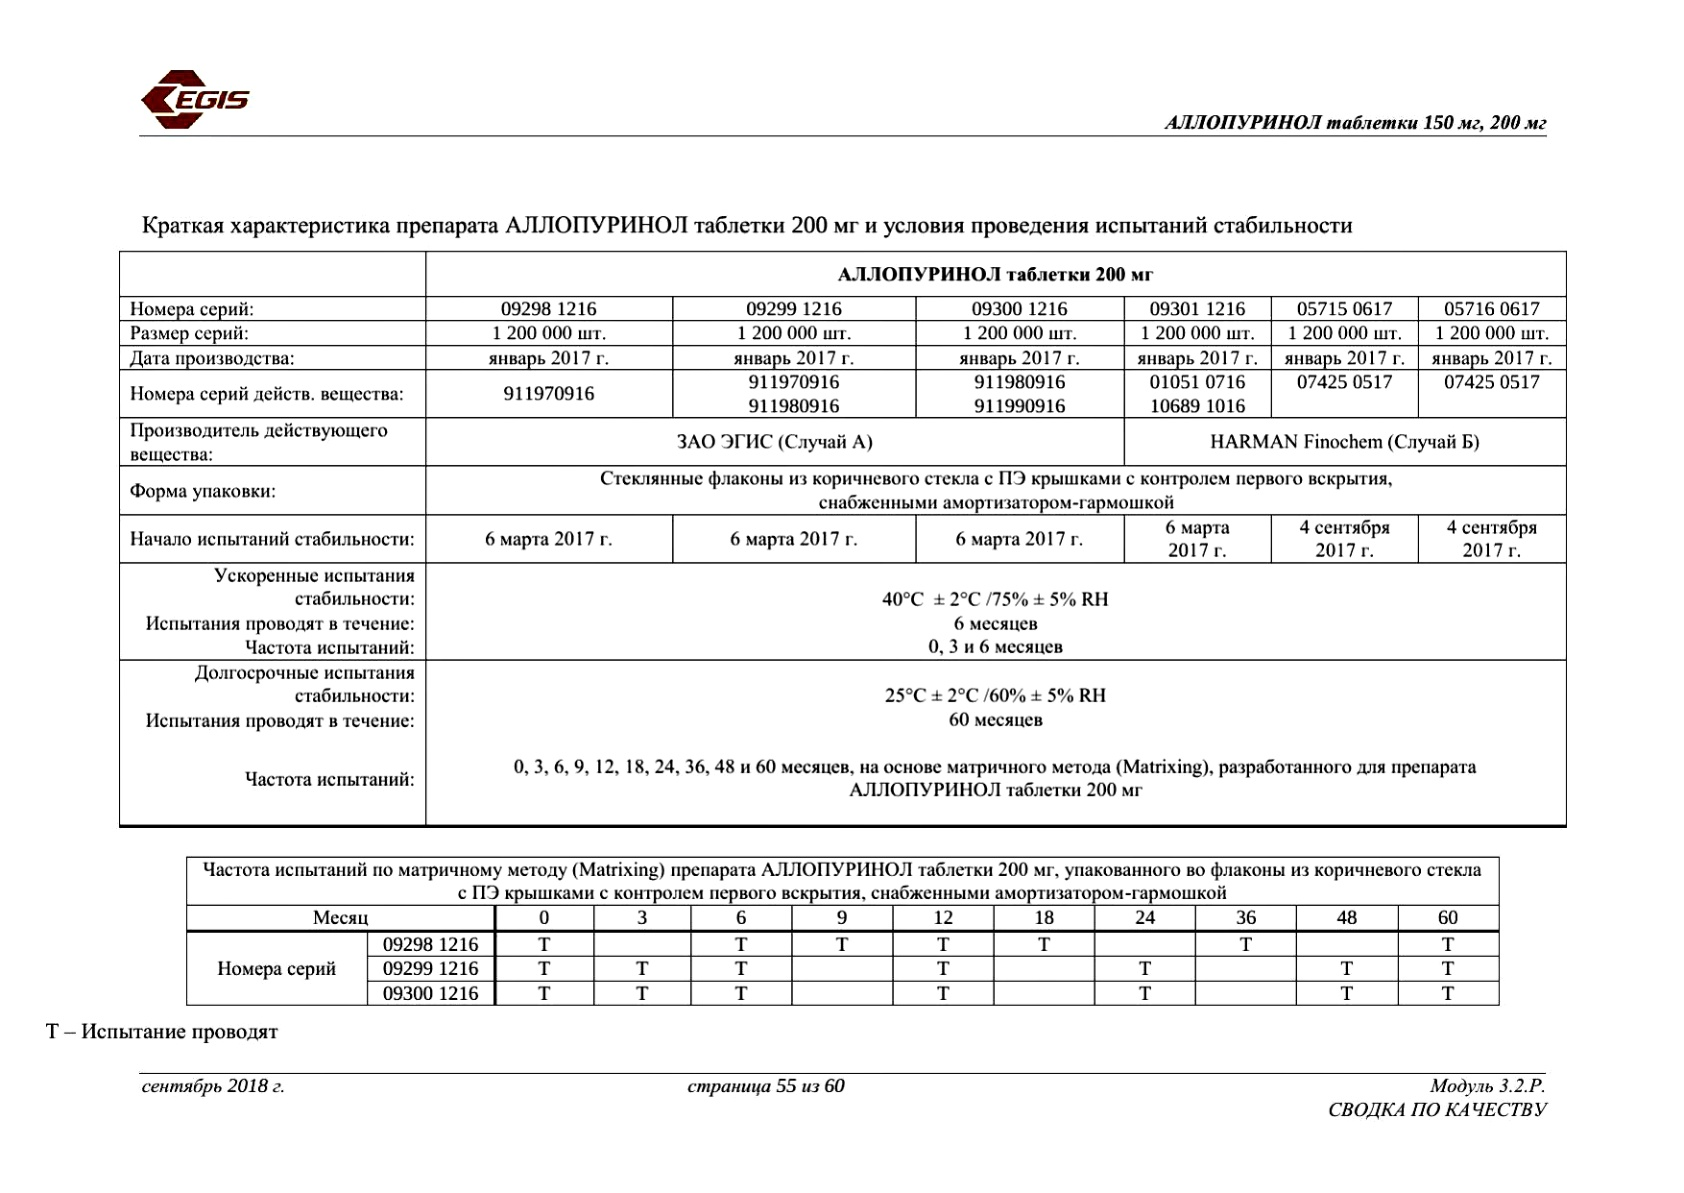merged_cells: (118, 249, 1568, 829), (185, 855, 1501, 1007)
